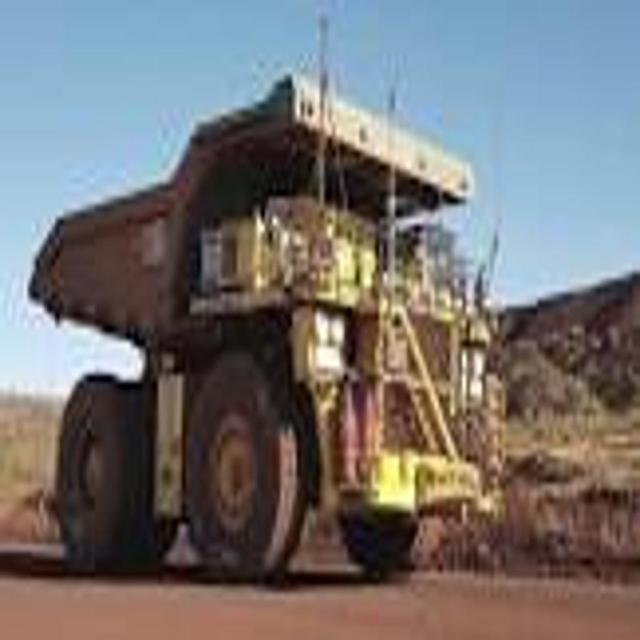dump_truck: (26, 61, 507, 596)
